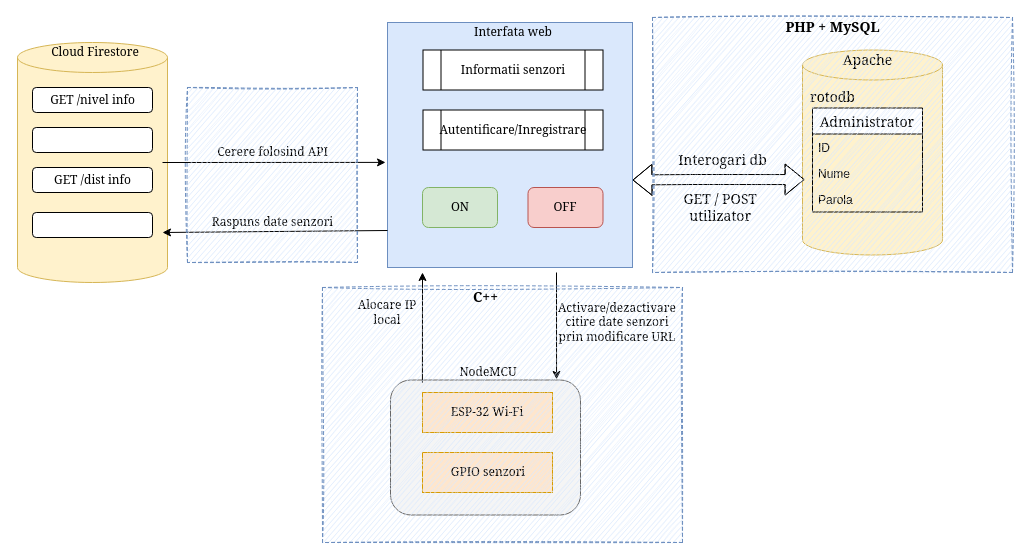
Image size: 1030x560. Some labels were removed from this diagram. Each missing label, with the centre of its shape:
GET /temp info: the point at 92,139
GET ora si data: the point at 92,225
JavaScript: the point at 272,174
